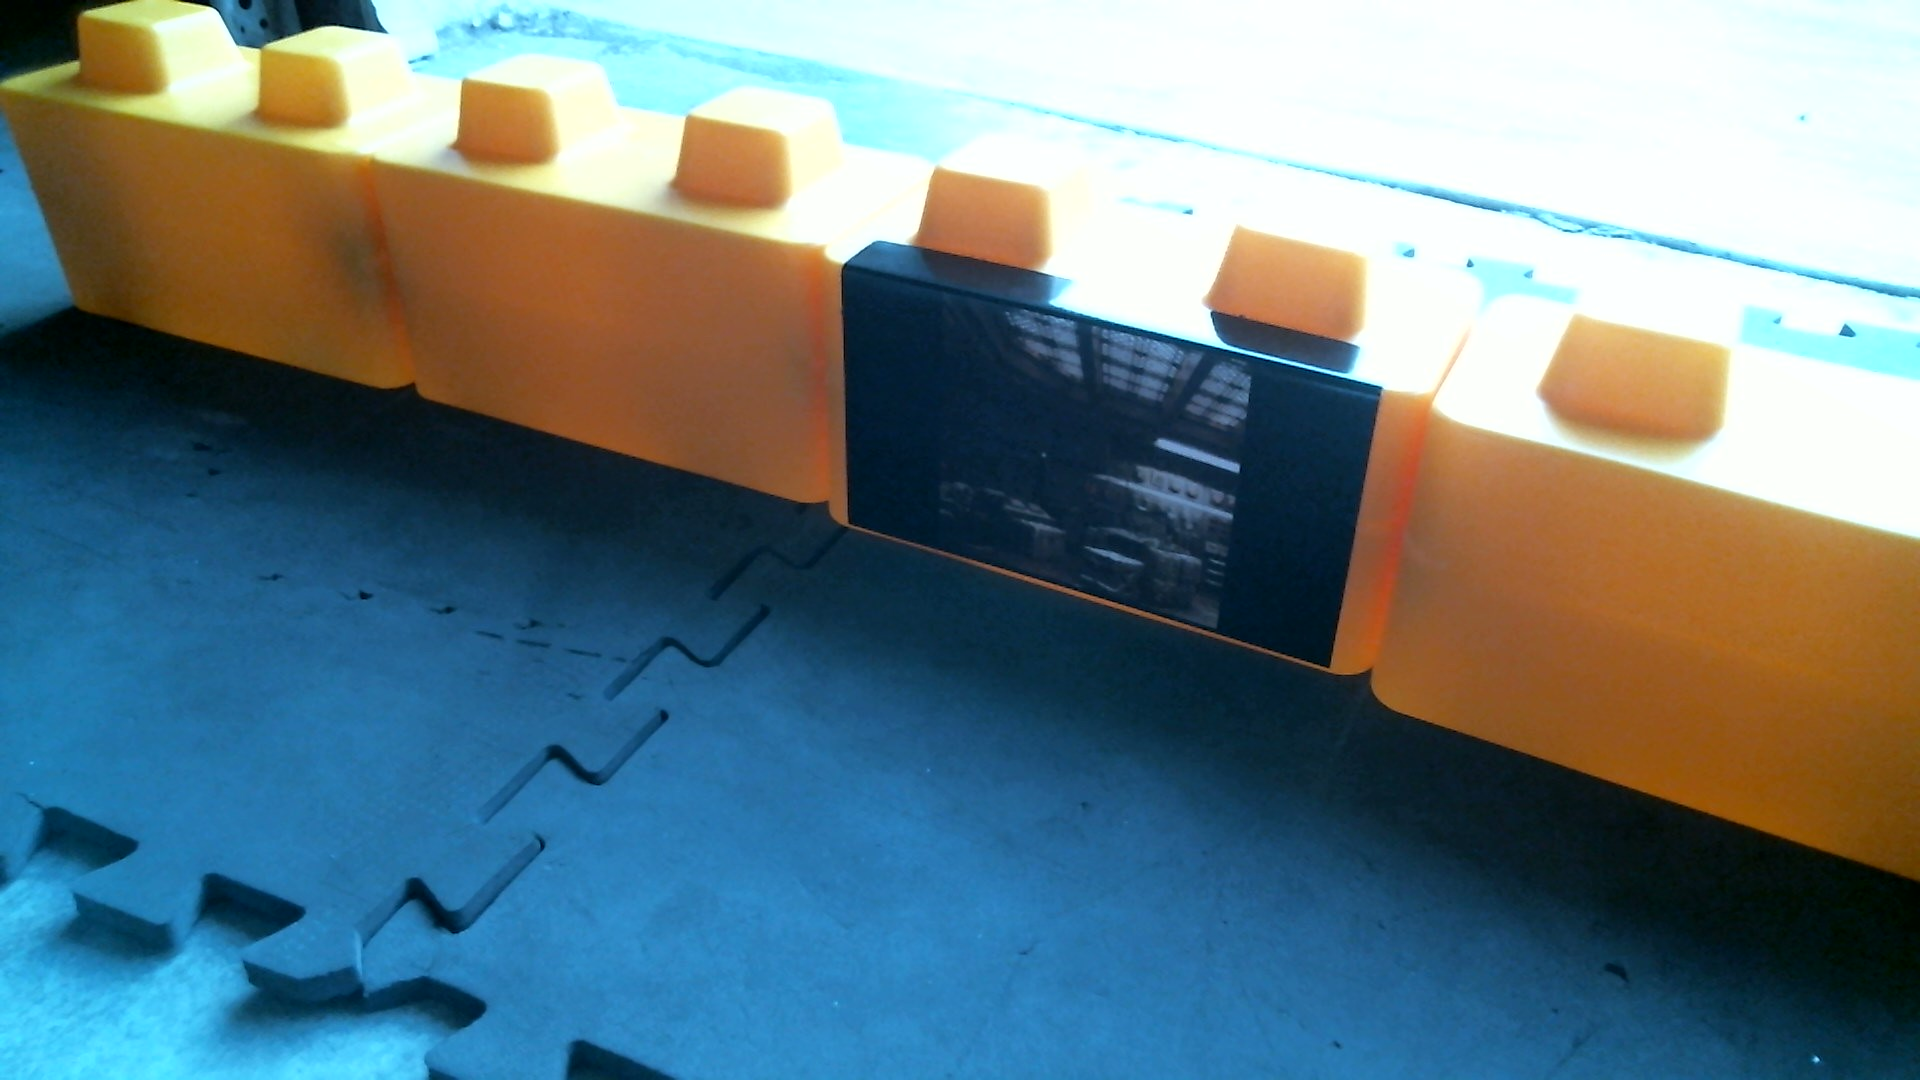center: (440, 47, 1920, 819)
right: (1, 5, 1485, 711)
